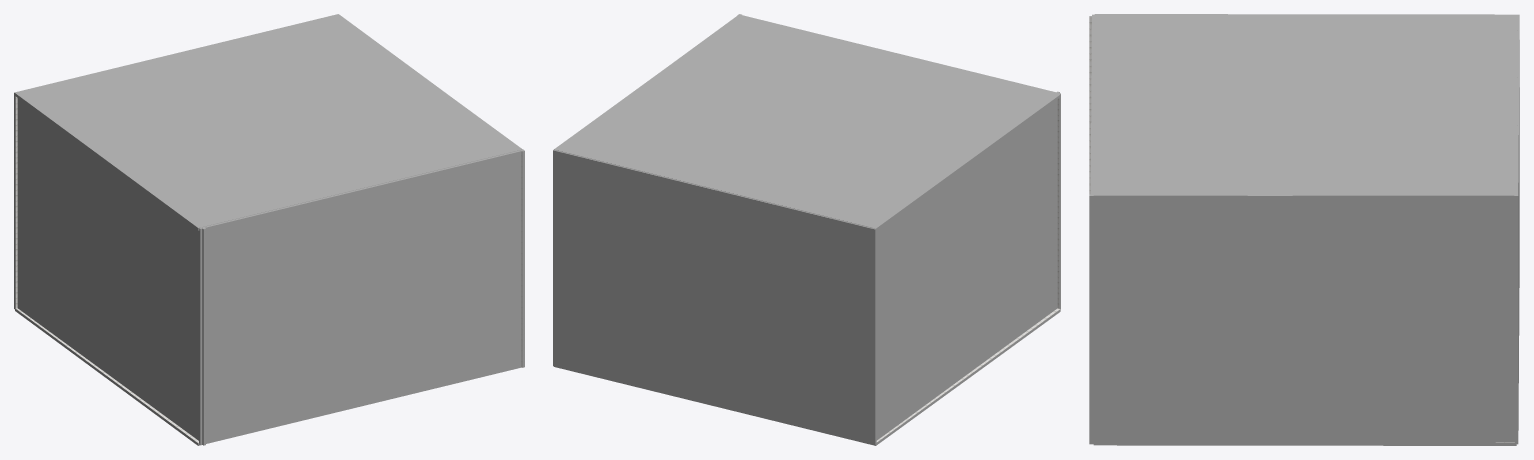
The model's file is Loft_11.gltf.
The picture shows the model from 3 angles, left to right: view 1: azimuth 30°, elevation 25°; view 2: azimuth 150°, elevation 25°; view 3: azimuth 270°, elevation 25°; orthographic projection. The views are drawn at different scales.
Parts seen in each view (by area): view 1: pSphere2; view 2: pSphere2; view 3: pSphere2.
Part boxes in pixels (x1,y1,x2,y2): pSphere2: [14, 14, 524, 445]; pSphere2: [553, 14, 1060, 445]; pSphere2: [1089, 14, 1519, 445].
Bounding box in the file's own units: 4.36 × 2.79 × 4.36.
Materials: 4 (2 with a texture image).
